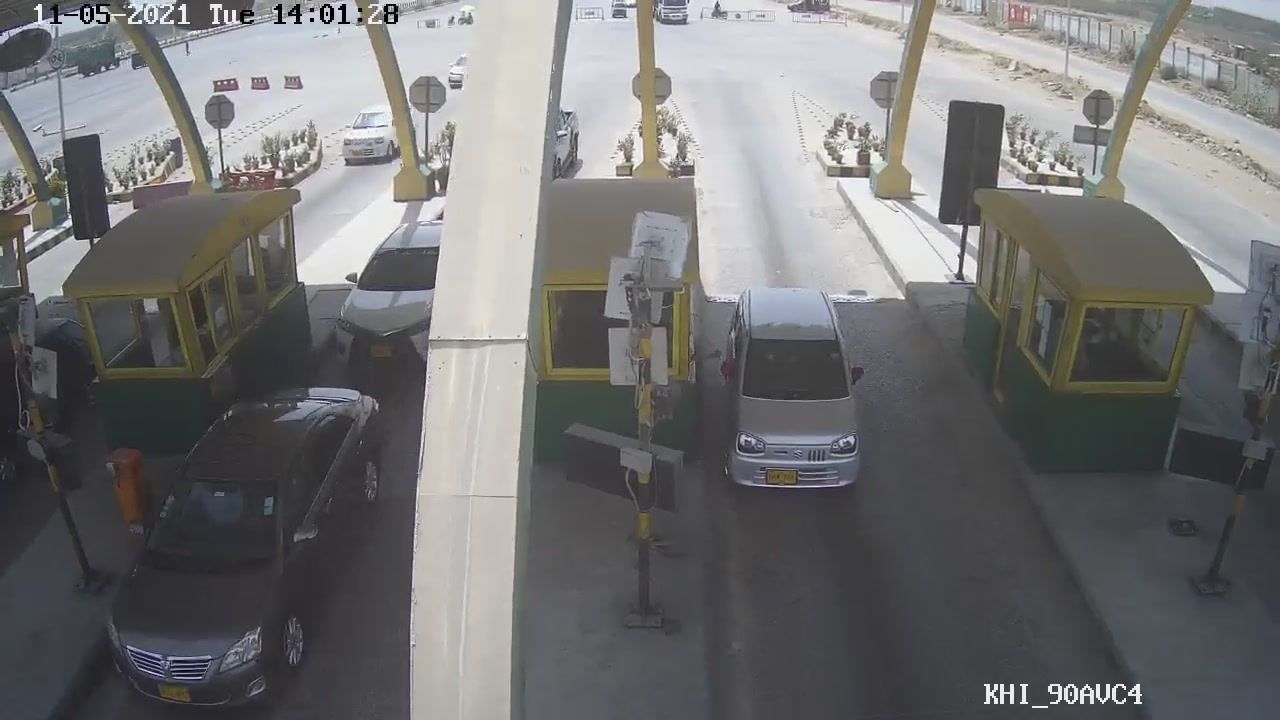F1: (710, 274, 870, 503)
